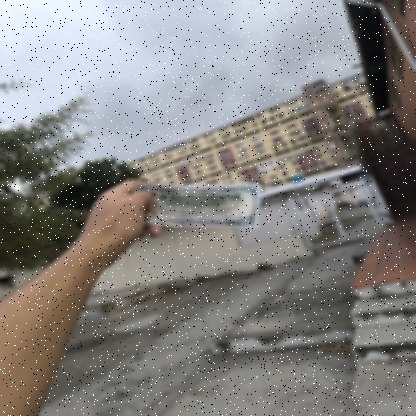one_hundred-back: (129, 180, 264, 232)
